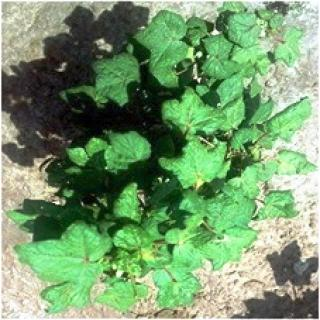curl: (88, 7, 306, 178), (27, 192, 300, 304)
